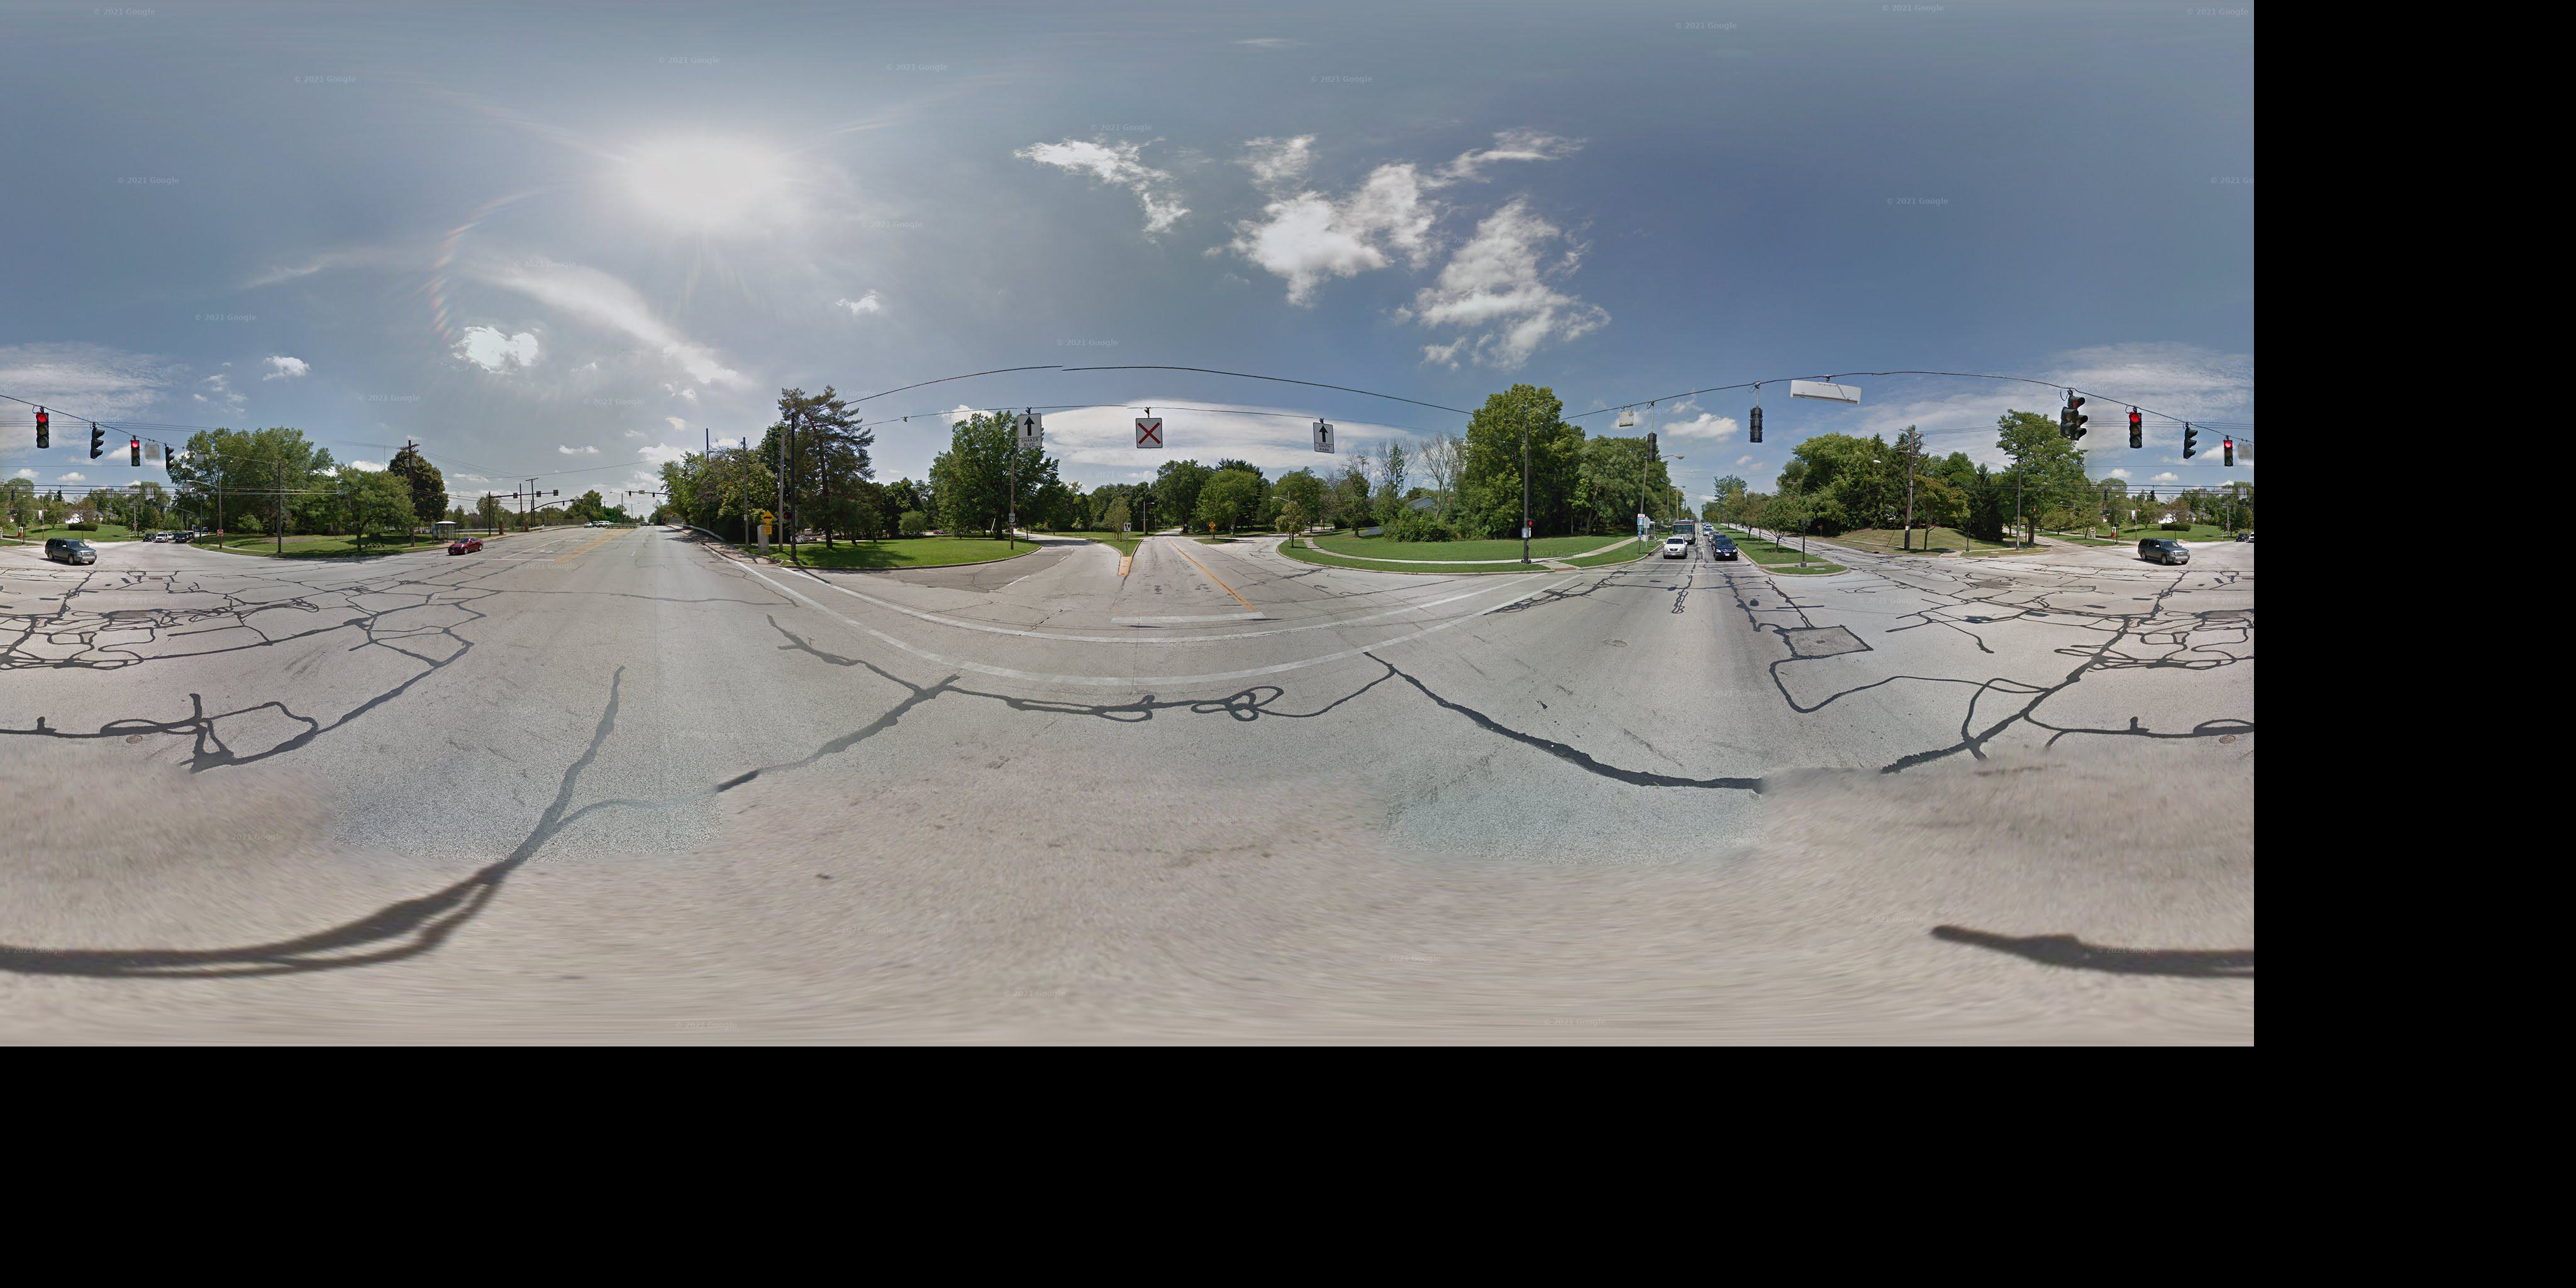Curb Ramp: (728, 555, 785, 577), (1541, 557, 1587, 578), (1934, 545, 1962, 567), (1750, 562, 1776, 572)
